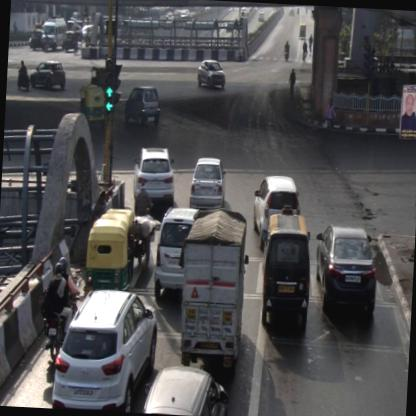bus: (41, 14, 68, 50)
car: (52, 286, 158, 412), (261, 202, 313, 334), (312, 224, 378, 318), (132, 363, 233, 415), (156, 204, 199, 300), (251, 174, 301, 254), (133, 145, 176, 208), (193, 154, 228, 210), (124, 84, 163, 126), (30, 60, 68, 92), (195, 58, 228, 92)
motorcycle: (44, 256, 81, 364), (132, 176, 154, 268), (15, 60, 32, 90), (300, 40, 308, 62), (283, 40, 289, 64)
truck: (180, 210, 252, 372)
